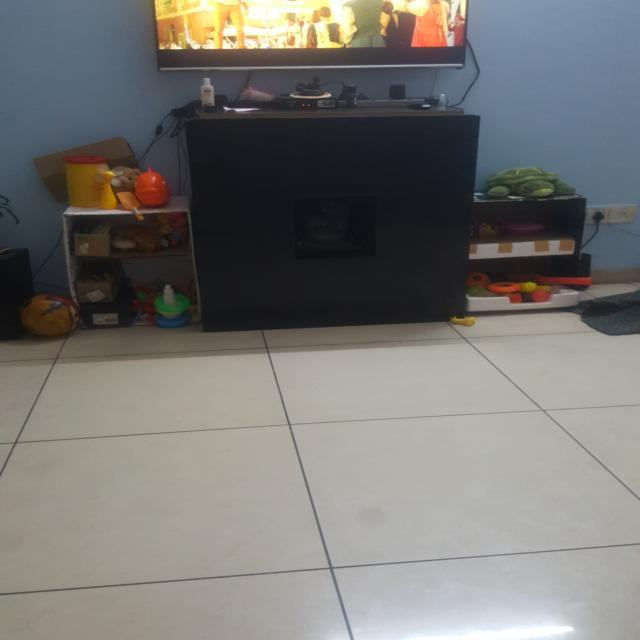Television: (147, 0, 471, 73)
